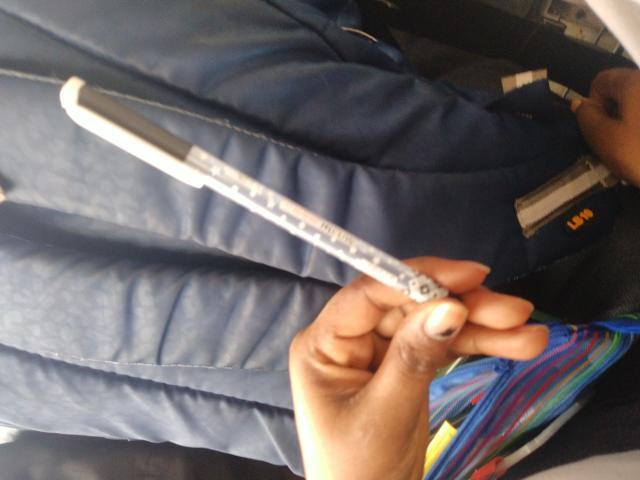PEN: (167, 55, 411, 480)
